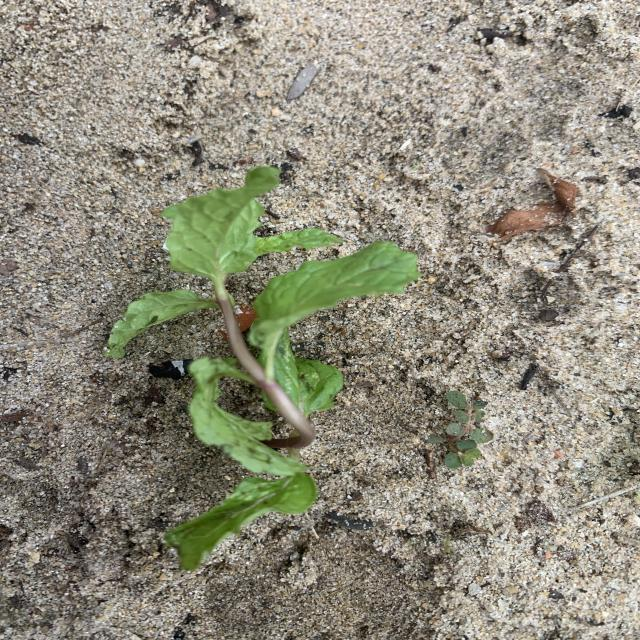crop: (105, 167, 420, 570)
weed: (488, 168, 578, 241), (443, 391, 493, 469), (286, 63, 334, 104), (560, 225, 597, 270), (271, 107, 290, 120)
